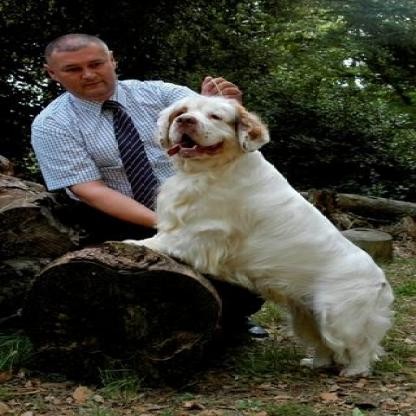clumber: (116, 92, 394, 378)
